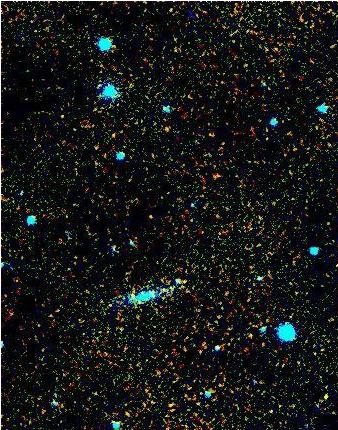star: (172, 266, 202, 296)
